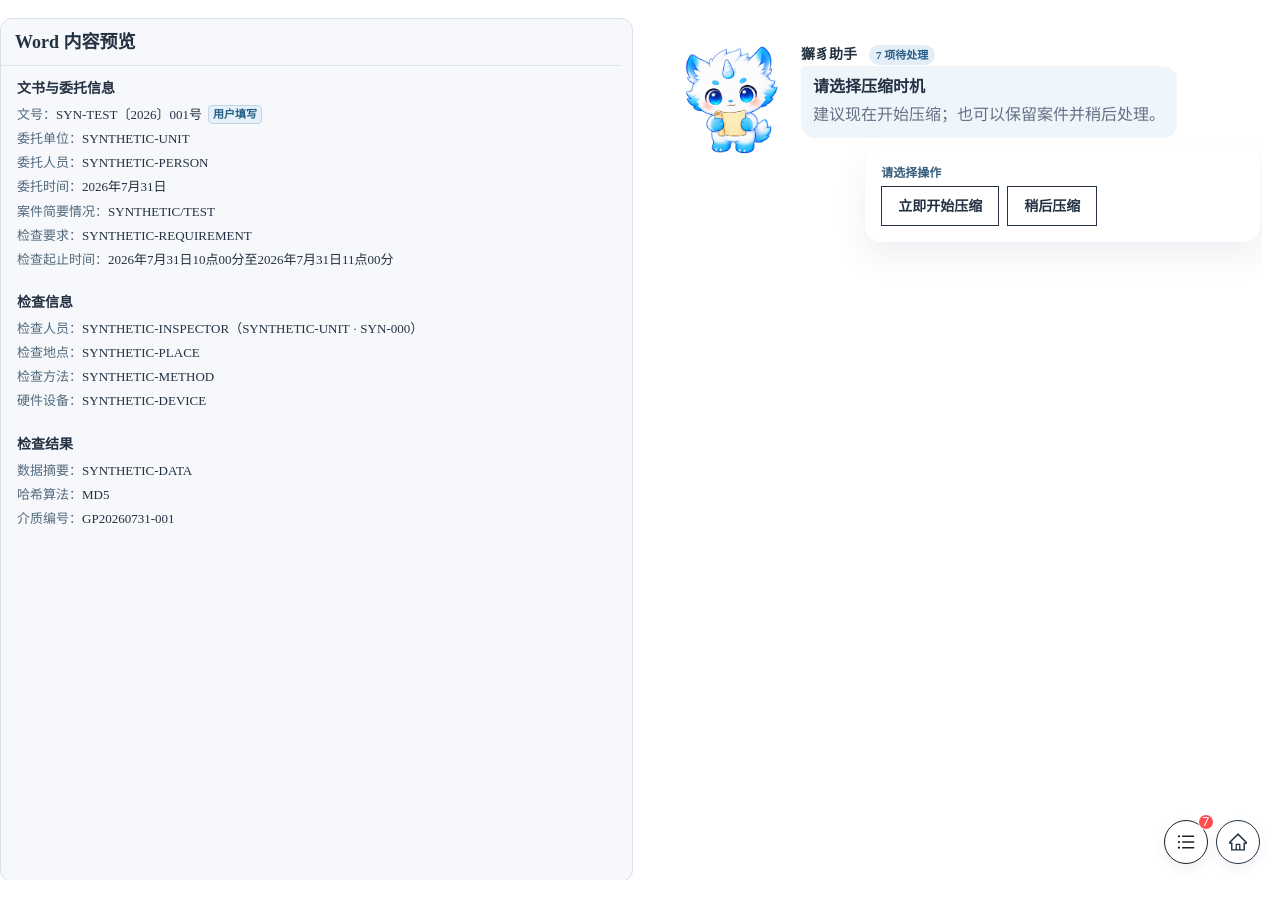
CaseRecordGeneratePage archive decision coordination › reopens the matching guided assistant field from a previously handled item
What coordinates should you click on to do the following:
click the button named "查看已填内容与待办"
I would click on:
 (1186, 842)
Its box is [1164,820,1208,864].
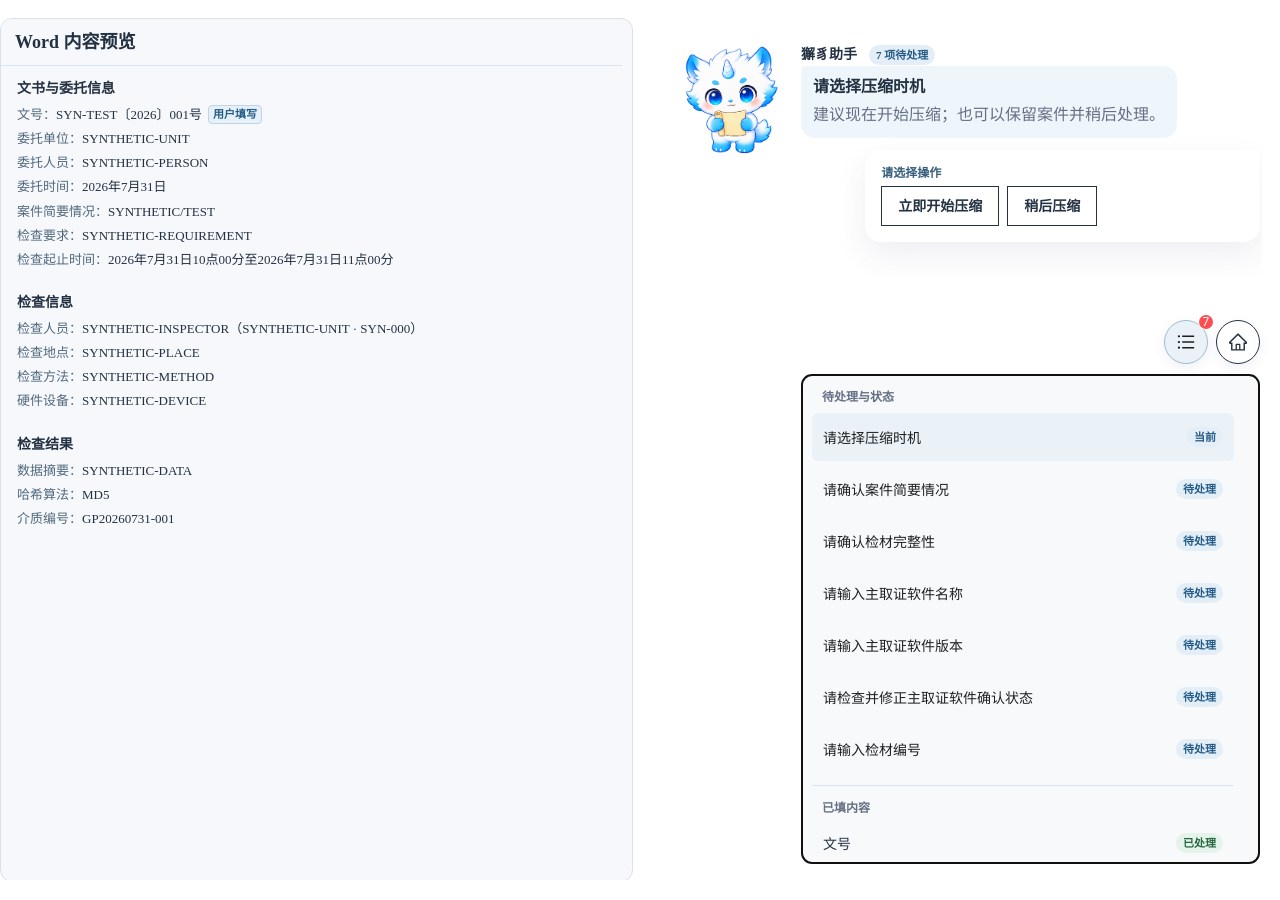
What coordinates should you click on to do the following:
click the button with aria-label "修改文号"
I would click on:
 (1200, 843)
Its box is [812,824,1234,892].
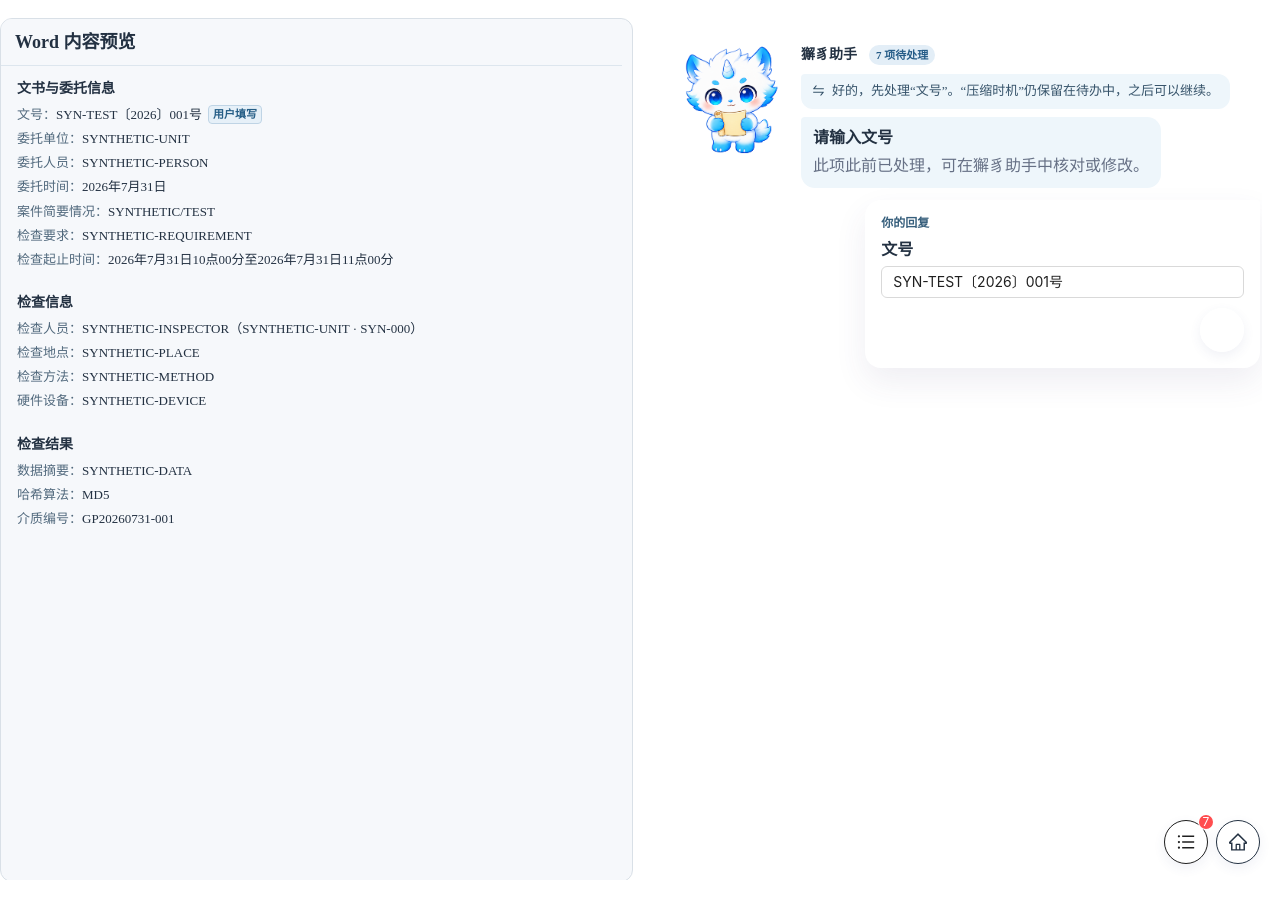
Check: the message named "獬豸助手提示" shows "请输入文号", box [813,129,893,146]
Check: the field labelled "文号" is shown, box [881,266,1244,298]
